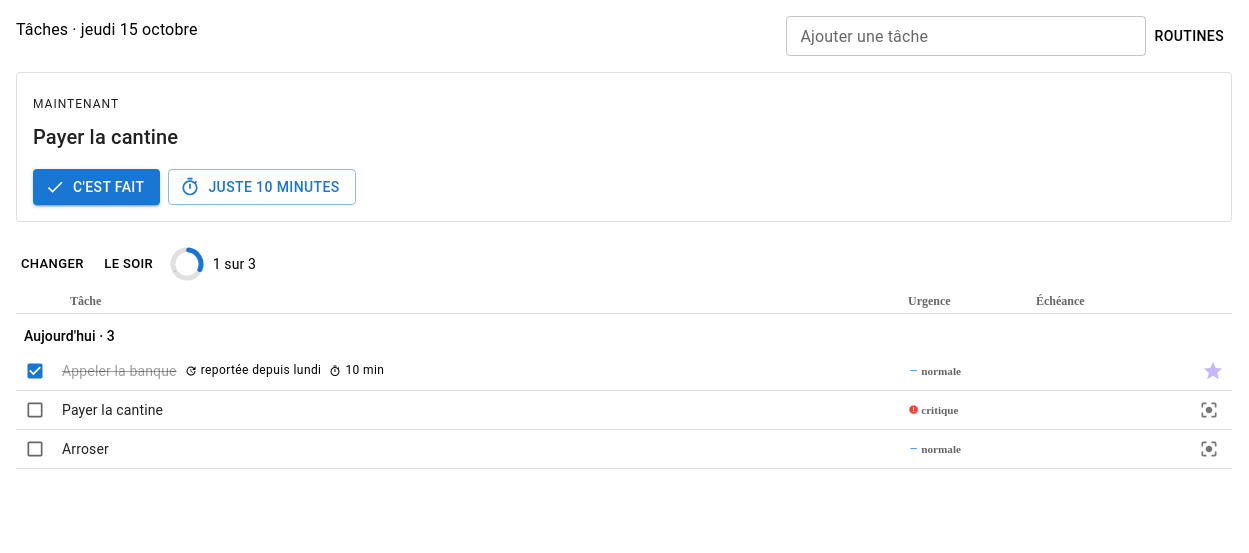
TaskBoard › « Aujourd'hui » — the day of five (MAG-497) › the Focus (MAG-499) › a task of the day opens its Focus from its row, and a done one has no such button
The width and height of the screenshot is (1249, 553).
Expected: the list named "Aujourd'hui" is shown, [16,352,1232,469]
Click the button named "Se concentrer sur Arroser": x=1209, y=449 [1194,434,1224,464]
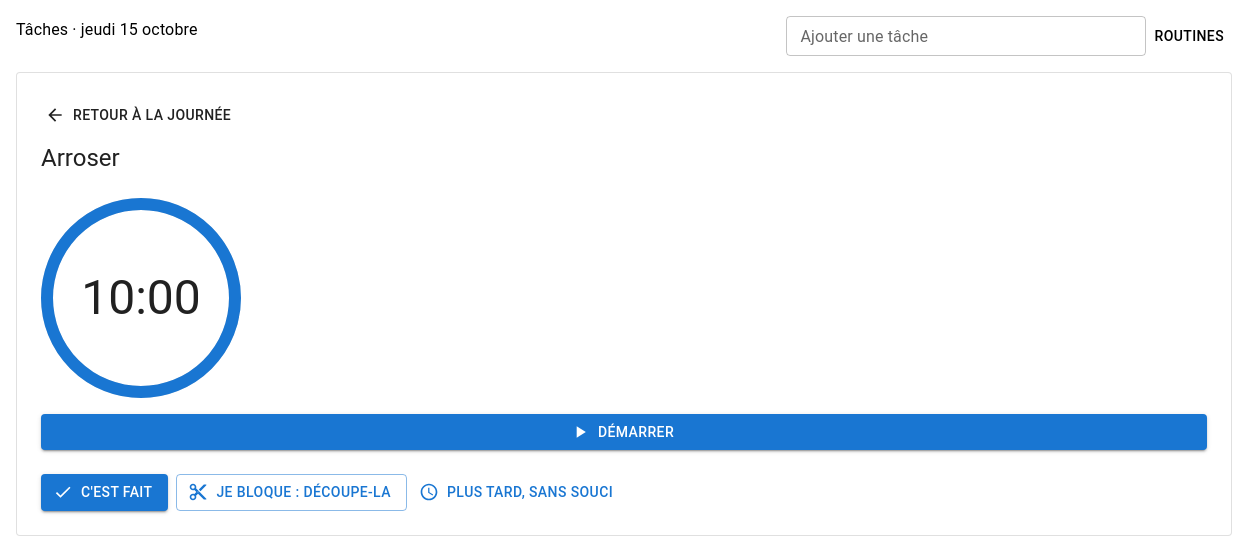
Expected: the element "Arroser" is shown
Expected: the element named "Minuteur" reads "10:00", [81,268,201,326]
